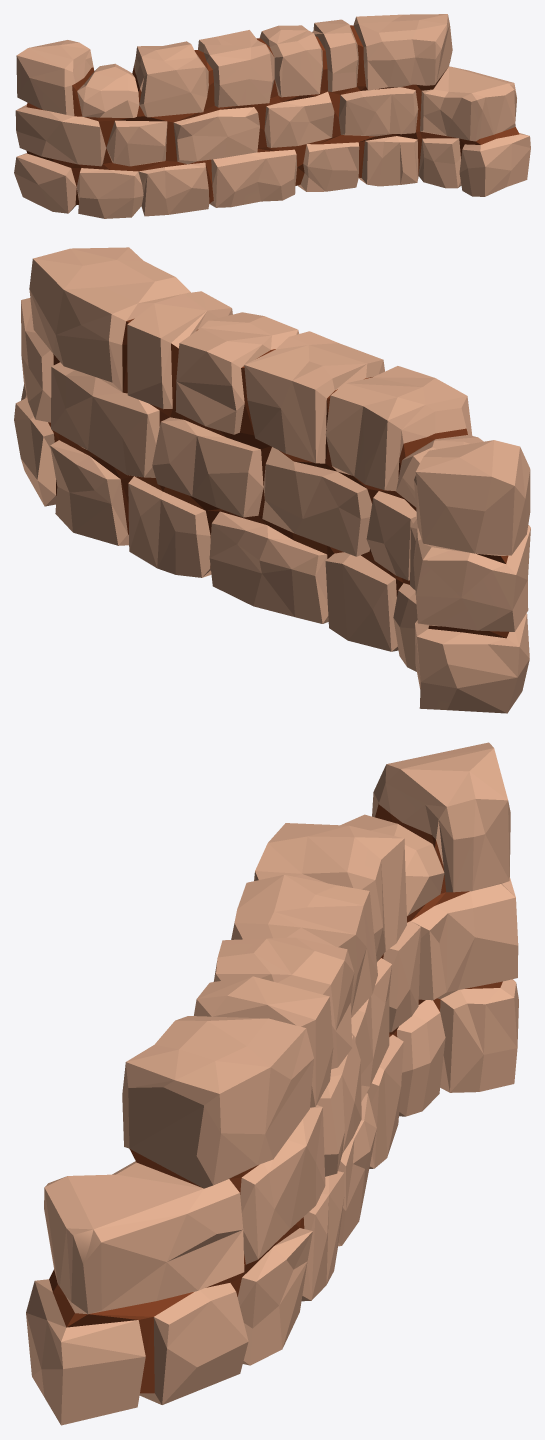
The model's file is Wall_Curved_V01.fbx.
3 views of the same model, one above another, from view 1: azimuth 30°, elevation 25°; view 2: azimuth 150°, elevation 25°; view 3: azimuth 270°, elevation 25° (orthographic). The views are drawn at different scales.
Visible parts, largest first — view 1: Wall_Curved_V01; view 2: Wall_Curved_V01; view 3: Wall_Curved_V01.
Part boxes in pixels (x1,y1,x2,y2): Wall_Curved_V01: [14, 14, 530, 218]; Wall_Curved_V01: [14, 247, 530, 713]; Wall_Curved_V01: [26, 742, 518, 1425].
Size of the model in its own units: 219 by 78.43 by 114.
